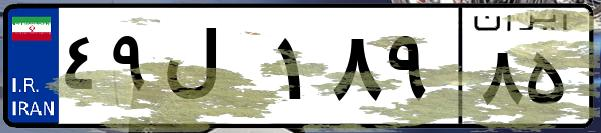1: (270, 28, 330, 110)
4: (57, 26, 110, 100)
5: (525, 38, 570, 115)
8: (330, 28, 385, 110), (475, 38, 525, 113)
9: (385, 28, 445, 110), (110, 28, 158, 98)
ل: (158, 20, 270, 120)
